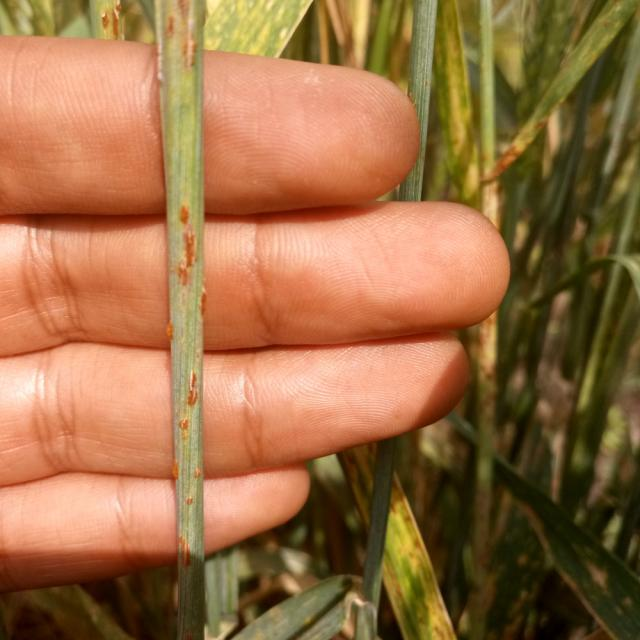wheat-stemrust: (156, 2, 203, 124), (169, 177, 202, 321), (173, 364, 202, 452)
